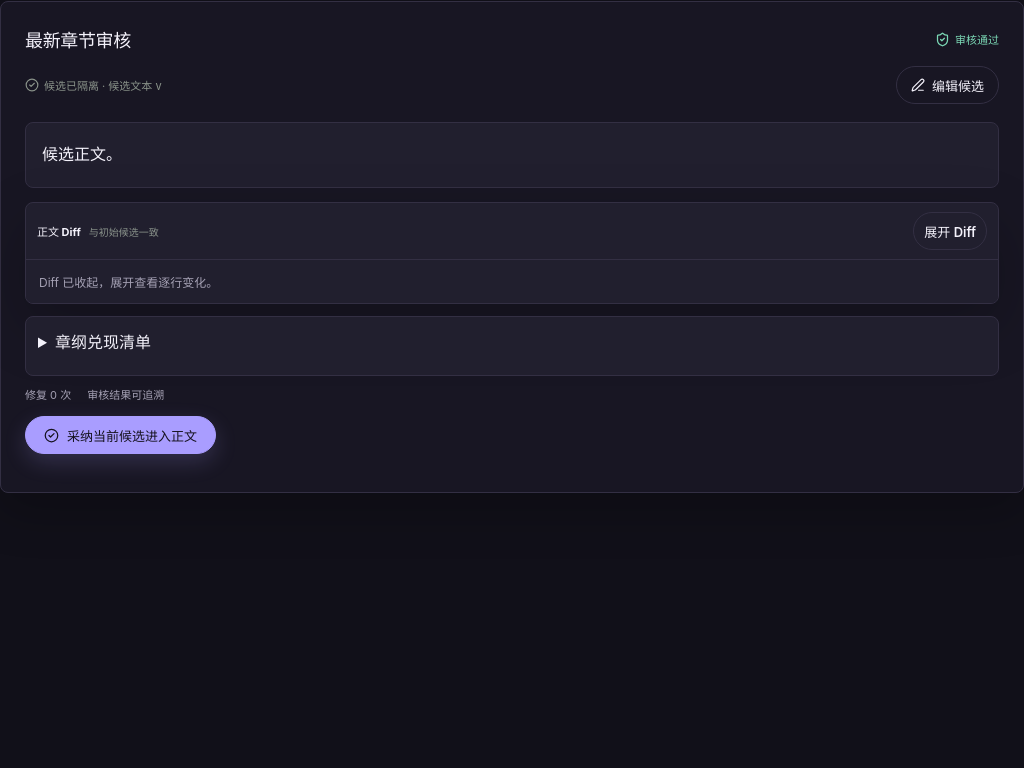
Scenario: ChapterReview memory review › shows chapter-plan fulfillment evidence without making it an acceptance gate
Click the heading "章纲兑现清单" at [103, 342], box [55,332,151,352]
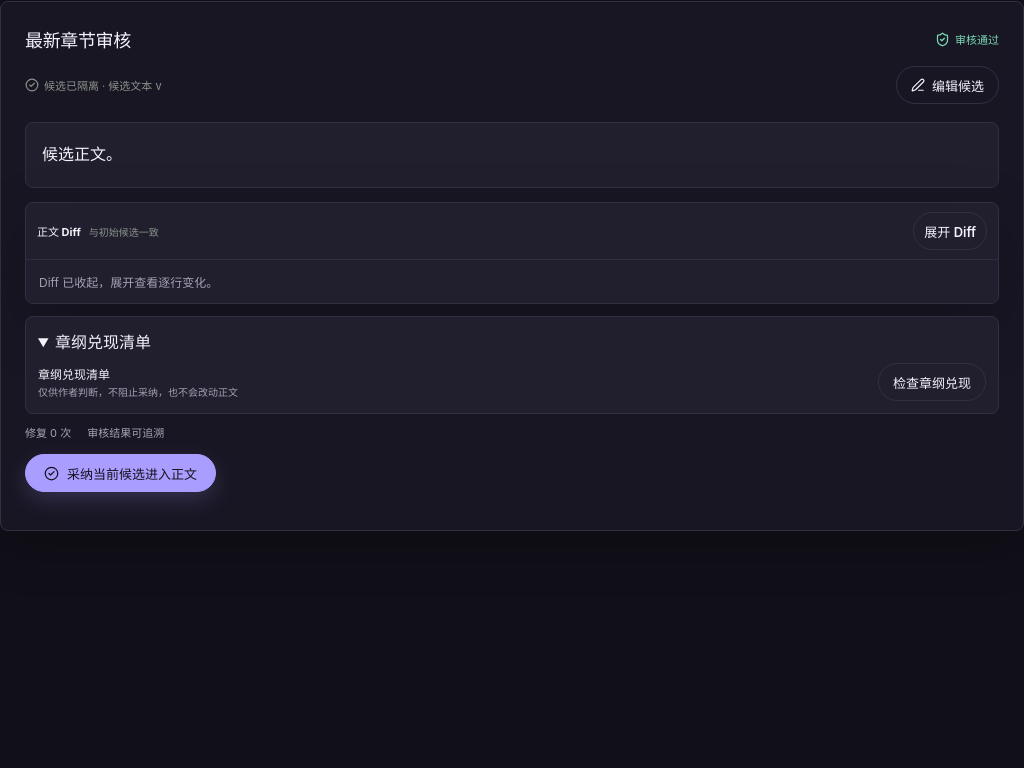
Click the button "检查章纲兑现" at [932, 382], box [878,363,986,401]
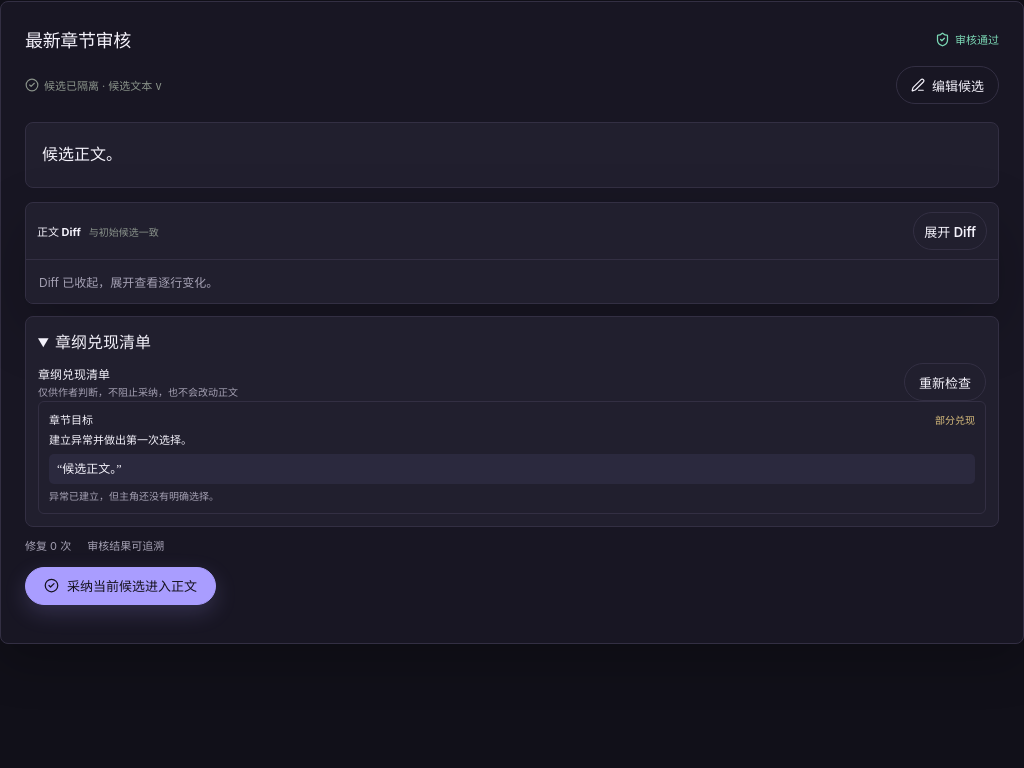
Expected: the text "候选正文。" is shown, [25,122,999,188]
Now the text "异常已建立，但主角还没有明确选择。" is shown, box [49,490,219,502]
Now the text "部分兑现" is shown, box [935,412,975,426]
